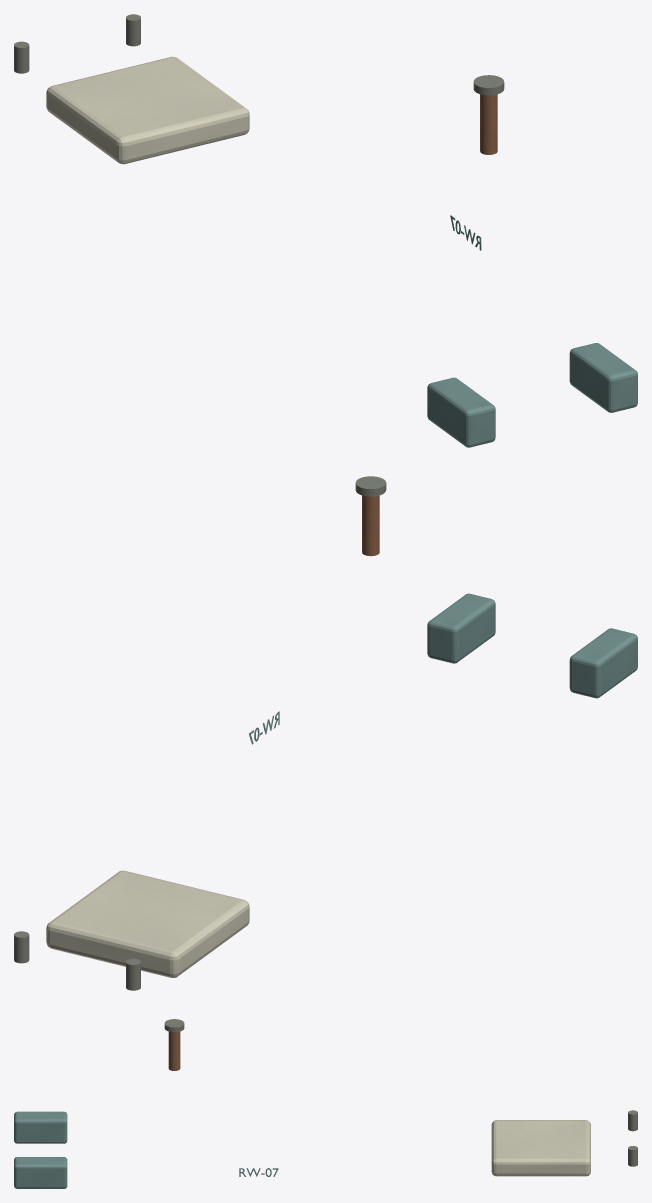
The model's file is Boat_Fittings.glb.
3 views of the same model, one above another, from view 1: azimuth 30°, elevation 25°; view 2: azimuth 150°, elevation 25°; view 3: azimuth 270°, elevation 25° (orthographic). The views are drawn at different scales.
Visible parts, largest first — view 1: Boat_Fittings; view 2: Boat_Fittings; view 3: Boat_Fittings.
Part boxes in pixels (left/top/right/bottom): Boat_Fittings: left=14, top=14, right=637, bottom=447; Boat_Fittings: left=14, top=476, right=637, bottom=990; Boat_Fittings: left=14, top=1019, right=637, bottom=1188.
Size of the model in its own units: 1.84 by 2.28 by 8.16.
4 materials, 3 textured.
